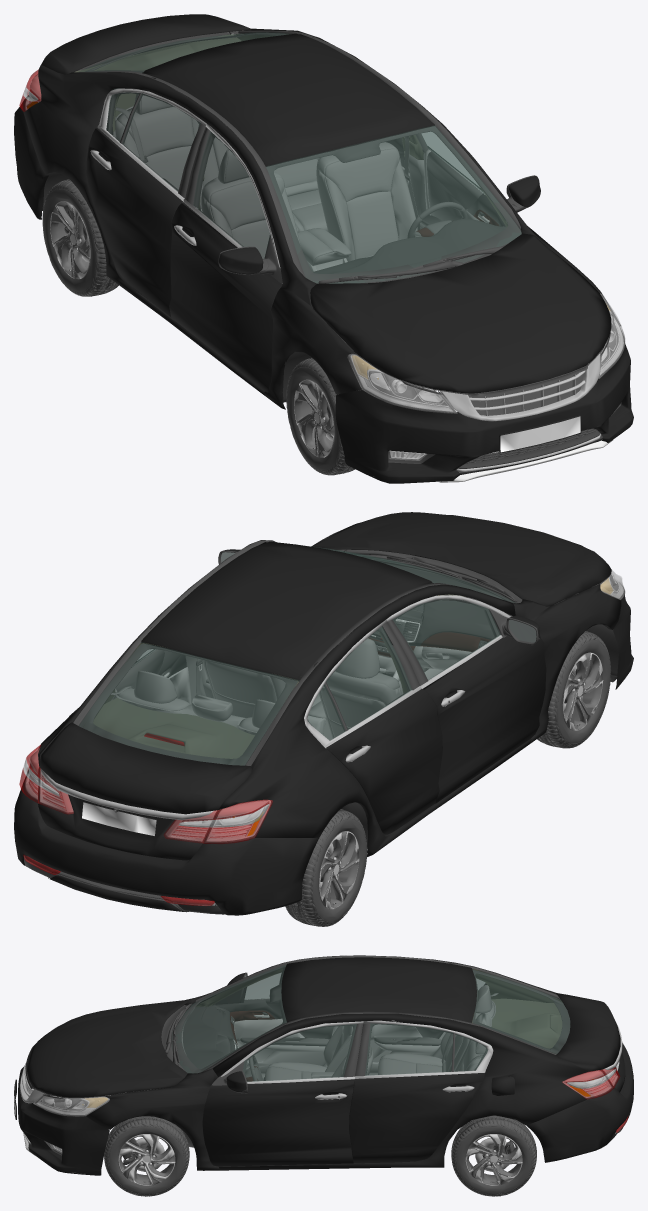
The model's file is car_hologram.glb.
The picture shows the model from 3 angles, top to bottom: view 1: azimuth 30°, elevation 25°; view 2: azimuth 150°, elevation 25°; view 3: azimuth 270°, elevation 25°; orthographic projection. The views are drawn at different scales.
Visible parts, largest first — view 1: Hood, Windshield, Roof, Front_Bumper, Interior, R_Front_Door, R_Rear_Door, R_Quarter_Panel, L_Front_Seat, Tailgate, 2nd_Row_Seat, Grille (+20 smaller); view 2: Tailgate, Roof, Rear_Bumper, Interior, R_Quarter_Panel, R_Front_Door, Hood, R_Rear_Door, R_Front_Window, Dash_Panel, R_Fender, R_Rear_Window (+16 smaller); view 3: L_Front_Door, L_Quarter_Panel, Hood, L_Rear_Door, Roof, Interior, Tailgate, Windshield, Rear_Bumper, L_Fender, Front_Bumper, L_Front_Window (+16 smaller).
Boxes of the visible parts, <box> form: Hood: <box>310,233,611,393</box>; Windshield: <box>266,125,521,283</box>; Roof: <box>142,33,434,166</box>; Front_Bumper: <box>335,344,633,483</box>; Interior: <box>42,30,521,476</box>; R_Front_Door: <box>169,124,282,392</box>; R_Rear_Door: <box>86,88,206,316</box>; R_Quarter_Panel: <box>24,65,293,395</box>; L_Front_Seat: <box>316,142,417,261</box>; Tailgate: <box>39,14,288,74</box>; 2nd_Row_Seat: <box>115,94,327,232</box>; Grille: <box>355,328,612,482</box>; Tailgate: <box>38,642,299,860</box>; Roof: <box>141,541,434,681</box>; Rear_Bumper: <box>14,782,318,915</box>; Interior: <box>73,540,629,848</box>; R_Quarter_Panel: <box>219,584,531,856</box>; R_Front_Door: <box>386,595,546,803</box>; Hood: <box>312,512,611,605</box>; R_Rear_Door: <box>304,620,442,834</box>; R_Front_Window: <box>393,599,500,680</box>; Dash_Panel: <box>369,564,494,669</box>; R_Fender: <box>512,584,621,743</box>; R_Rear_Window: <box>326,626,411,729</box>; L_Front_Door: <box>202,1021,363,1166</box>; L_Quarter_Panel: <box>212,1013,602,1170</box>; Hood: <box>27,1000,187,1097</box>; L_Rear_Door: <box>349,1020,493,1163</box>; Roof: <box>281,957,476,1022</box>; Interior: <box>72,955,570,1173</box>; Tailgate: <box>472,968,625,1092</box>; Windshield: <box>171,965,286,1073</box>; Rear_Bumper: <box>526,1043,633,1162</box>; L_Fender: <box>86,1068,219,1170</box>; Front_Bumper: <box>18,1067,109,1175</box>; L_Front_Window: <box>243,1024,356,1081</box>.
Bounding box in the file's own units: 2.4 × 1.72 × 5.65.
